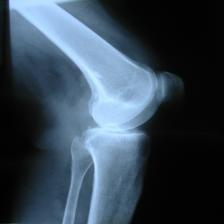spiral-fracture: (7, 0, 185, 224)
